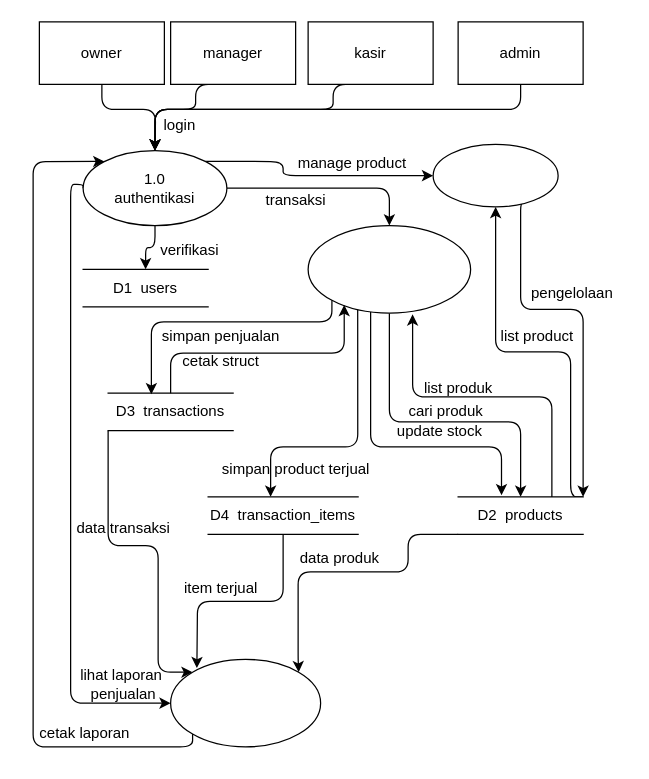
This 649x779 diagram has some shape labels left out. The shapes that lost their labels are listed below. From the top down, each one's centre as x and y in pixels, then its label:
the point at 495,175: 3.0 Manajemen produk
the point at 389,268: 2.0 Transaksi
the point at 245,702: 4.0 laporan
